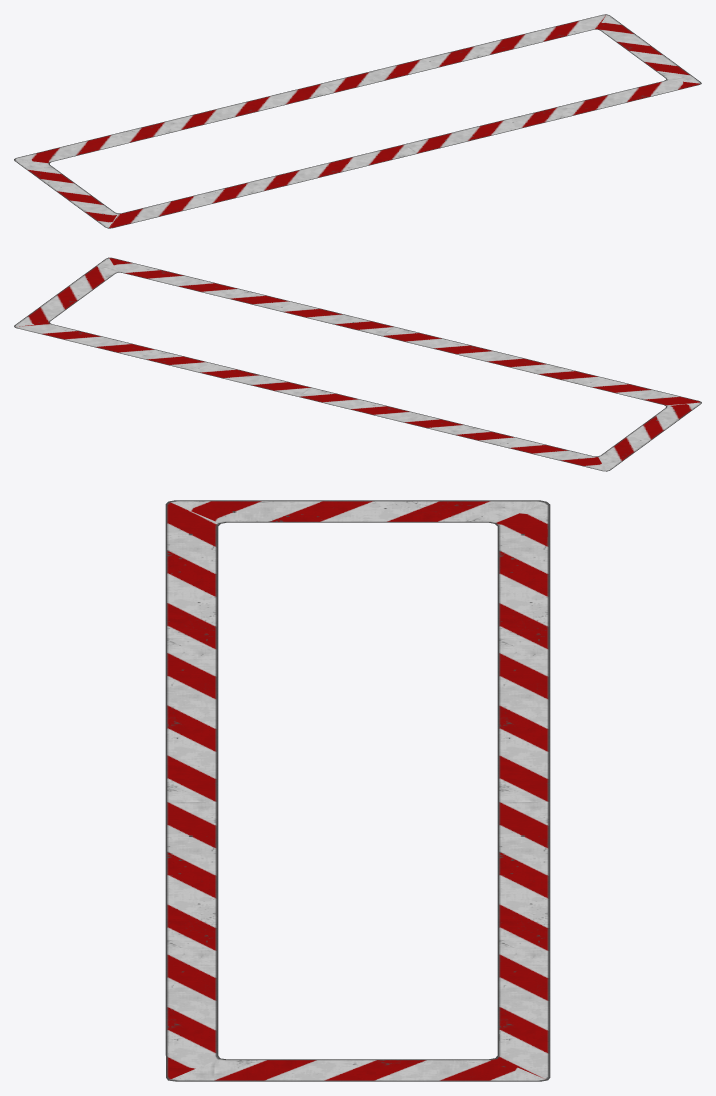
The model's file is SM_FloorDecal_RecRed1x4.FBX.
3 renders of one model, top to bottom at view 1: azimuth 30°, elevation 25°; view 2: azimuth 150°, elevation 25°; view 3: azimuth 270°, elevation 25°, orthographic. The views are drawn at different scales.
Visible parts, largest first — view 1: SM_FloorDecal_RecRed1x4; view 2: SM_FloorDecal_RecRed1x4; view 3: SM_FloorDecal_RecRed1x4.
Part boxes in pixels (left/top/right/bottom): SM_FloorDecal_RecRed1x4: left=14, top=14, right=701, bottom=228; SM_FloorDecal_RecRed1x4: left=14, top=257, right=701, bottom=471; SM_FloorDecal_RecRed1x4: left=165, top=500, right=550, bottom=1081.
Bounding box in the file's own units: 414 × 116 × 0.
